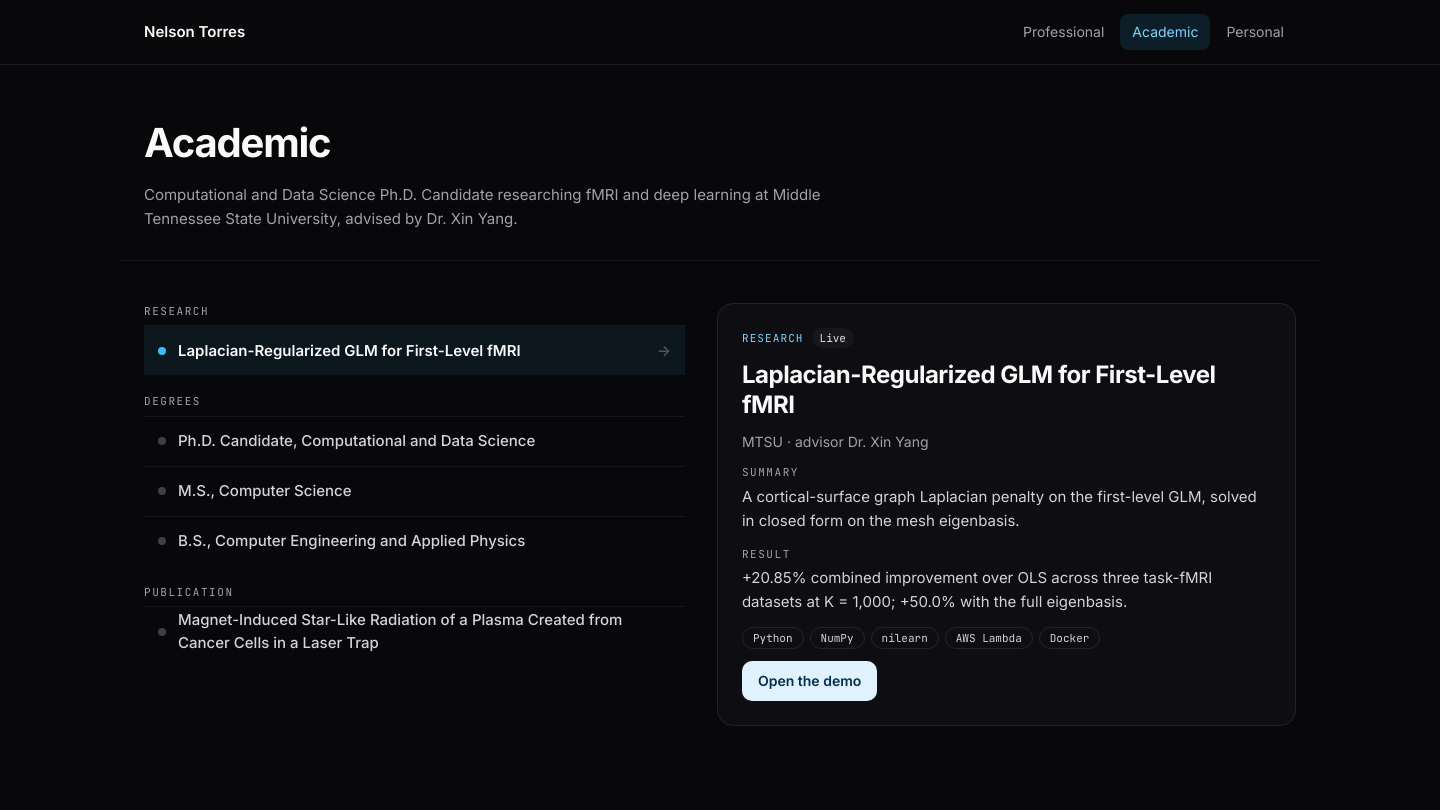
Test case: academic page › lists only the Laplacian GLM under research, and shows degree coursework on select
Click the button "M.S., Computer Science".
click(265, 490)  # box [144, 466, 685, 516]
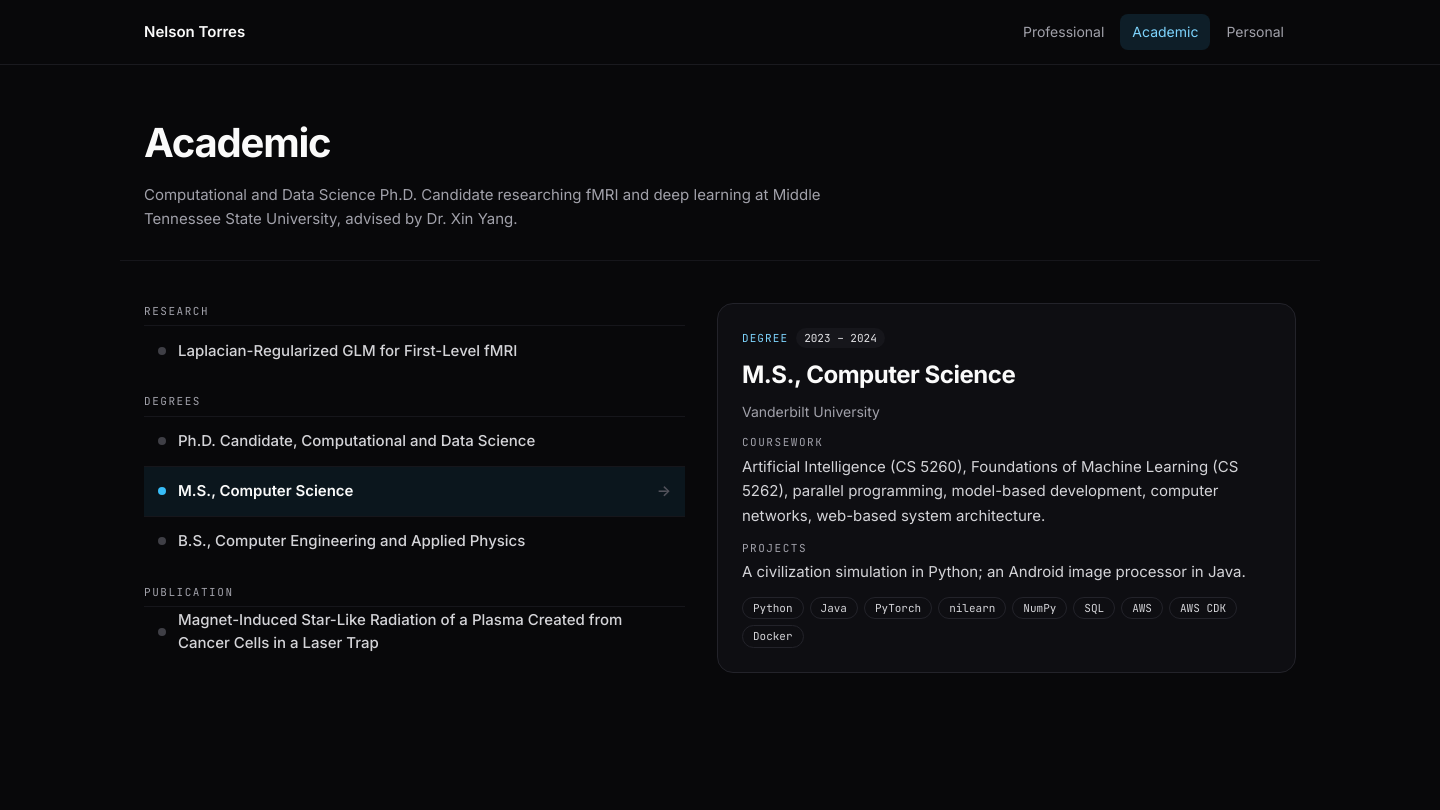
Check: the text "Foundations of Machine Learning (CS 5262)" is shown, box [742, 457, 1238, 525]
